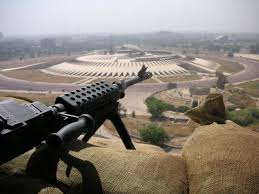gun: (0, 64, 153, 169)
